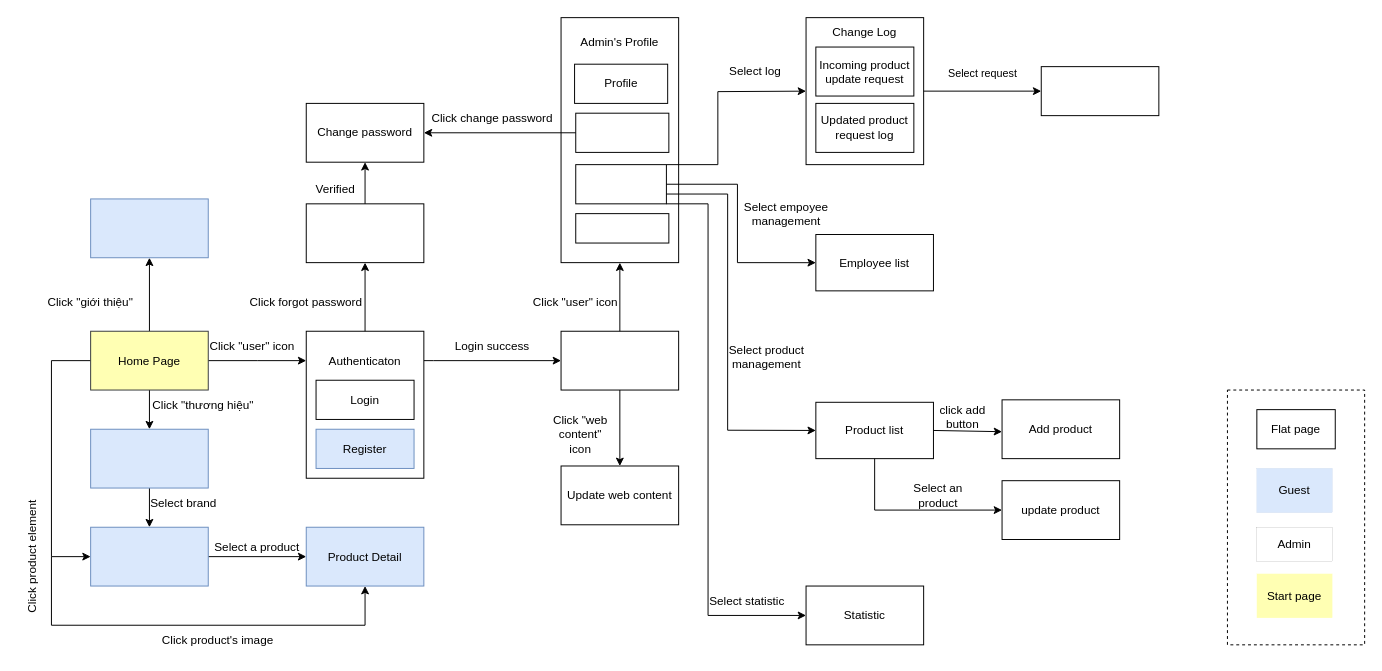
Image size: 1382x671. Some labels were removed from this diagram. Each missing label, with the centre of its shape:
"Account" belongs at point 622,132.
"Brand" belongs at point 149,458.
"Forgot password" belongs at point 364,233.
"Introduce" belongs at point 149,228.
"Logout" belongs at point 622,228.
"Management" belongs at point 620,184.
"Post Login" belongs at point 619,360.
"Product" belongs at point 149,556.
"Update product request detail" belongs at point 1099,91.
